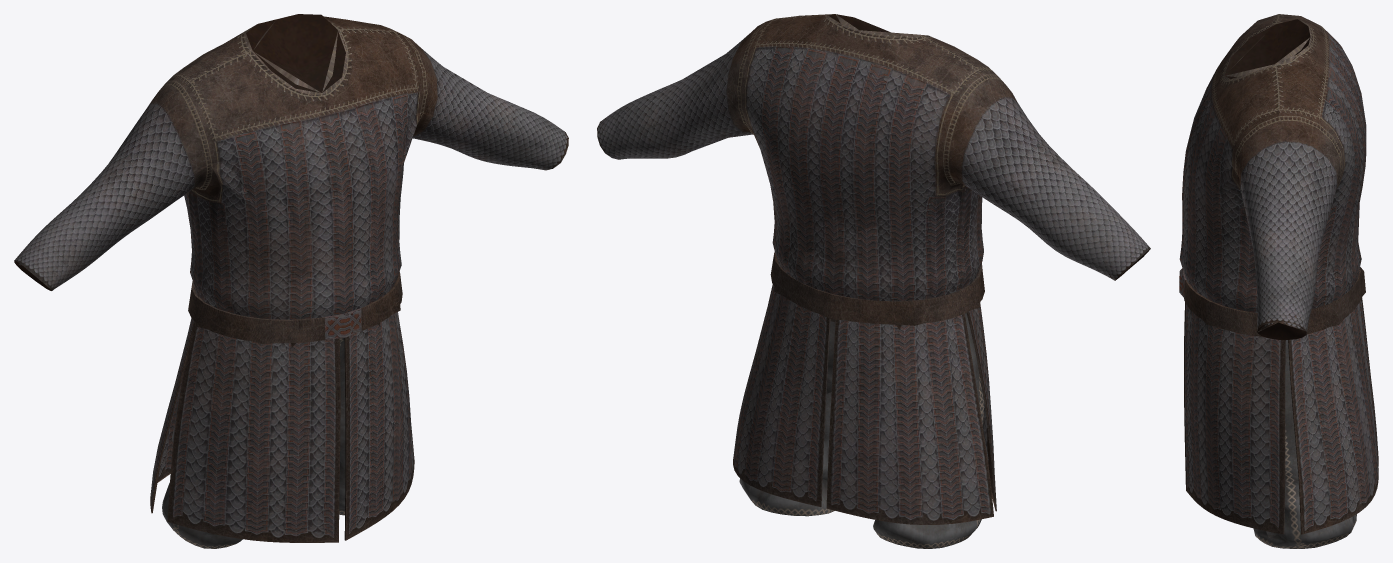
The model's file is sk_dwarf_iron_chest_scale_a.fbx.
3 renders of one model, left to right at view 1: azimuth 30°, elevation 25°; view 2: azimuth 150°, elevation 25°; view 3: azimuth 270°, elevation 25°, orthographic. The views are drawn at different scales.
Parts seen in each view (by area): view 1: sk_dwarf_iron_chest_scale_a.1, sk_dwarf_iron_chest_scale_a.lod.1, sk_dwarf_iron_chest_scale_a.0; view 2: sk_dwarf_iron_chest_scale_a.1, sk_dwarf_iron_chest_scale_a.lod.1, sk_dwarf_iron_chest_scale_a.0; view 3: sk_dwarf_iron_chest_scale_a.1, sk_dwarf_iron_chest_scale_a.lod.1, sk_dwarf_iron_chest_scale_a.0.
Boxes of the visible parts, x1=… form: sk_dwarf_iron_chest_scale_a.1: x1=14, y1=14, x2=568, y2=542; sk_dwarf_iron_chest_scale_a.lod.1: x1=17, y1=19, x2=557, y2=540; sk_dwarf_iron_chest_scale_a.0: x1=162, y1=338, x2=345, y2=548; sk_dwarf_iron_chest_scale_a.1: x1=597, y1=14, x2=1150, y2=524; sk_dwarf_iron_chest_scale_a.lod.1: x1=601, y1=14, x2=1147, y2=510; sk_dwarf_iron_chest_scale_a.0: x1=739, y1=313, x2=988, y2=548; sk_dwarf_iron_chest_scale_a.1: x1=1179, y1=14, x2=1378, y2=534; sk_dwarf_iron_chest_scale_a.lod.1: x1=1179, y1=25, x2=1378, y2=534; sk_dwarf_iron_chest_scale_a.0: x1=1253, y1=340, x2=1356, y2=548.
Size of the model in its own units: 1.17 by 0.3894 by 1.01.
